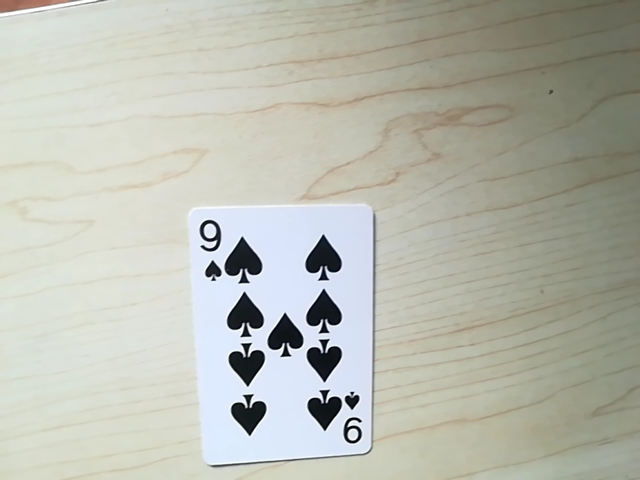ht 9: (193, 211, 232, 282), (329, 397, 368, 451)
